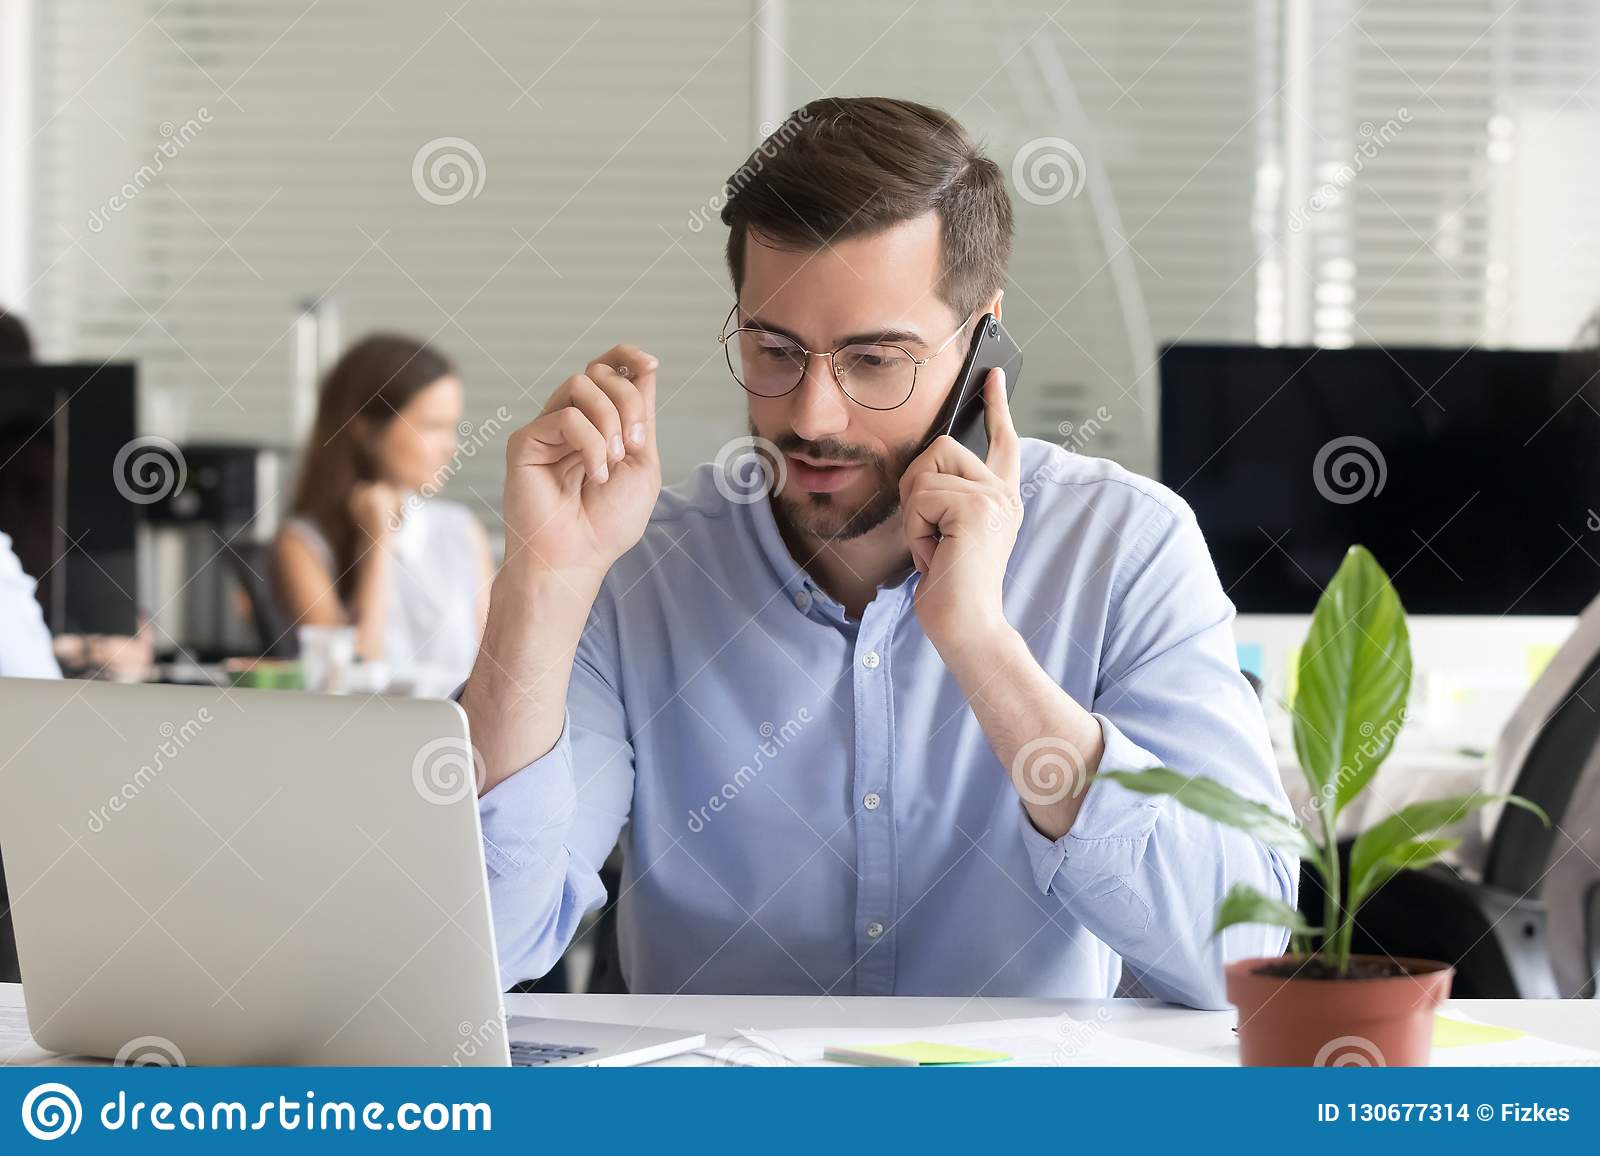phone: (929, 310, 1027, 495)
talk: (724, 293, 1032, 675)
